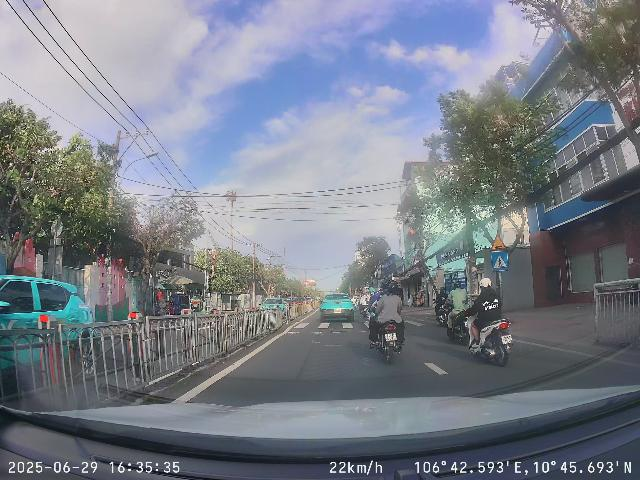221-duong-go-ghe: (492, 234, 506, 250)
423a-duong-nguoi-di-bo-sang-ngang-1: (491, 251, 509, 271)
